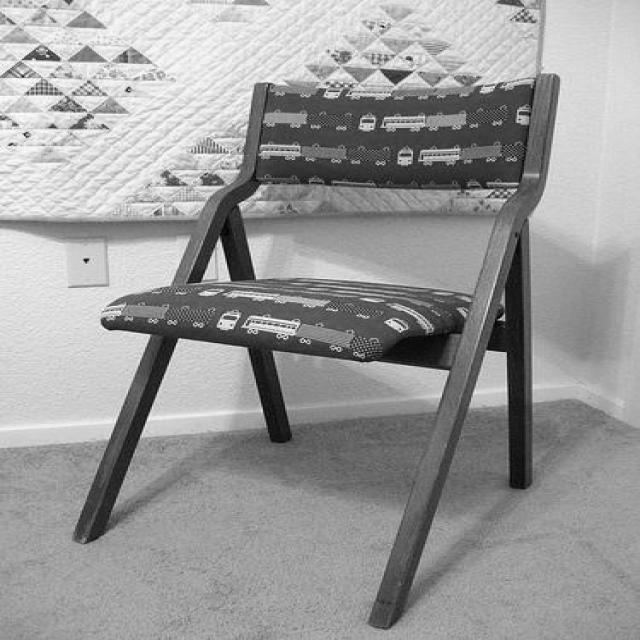chair: (74, 72, 568, 628)
